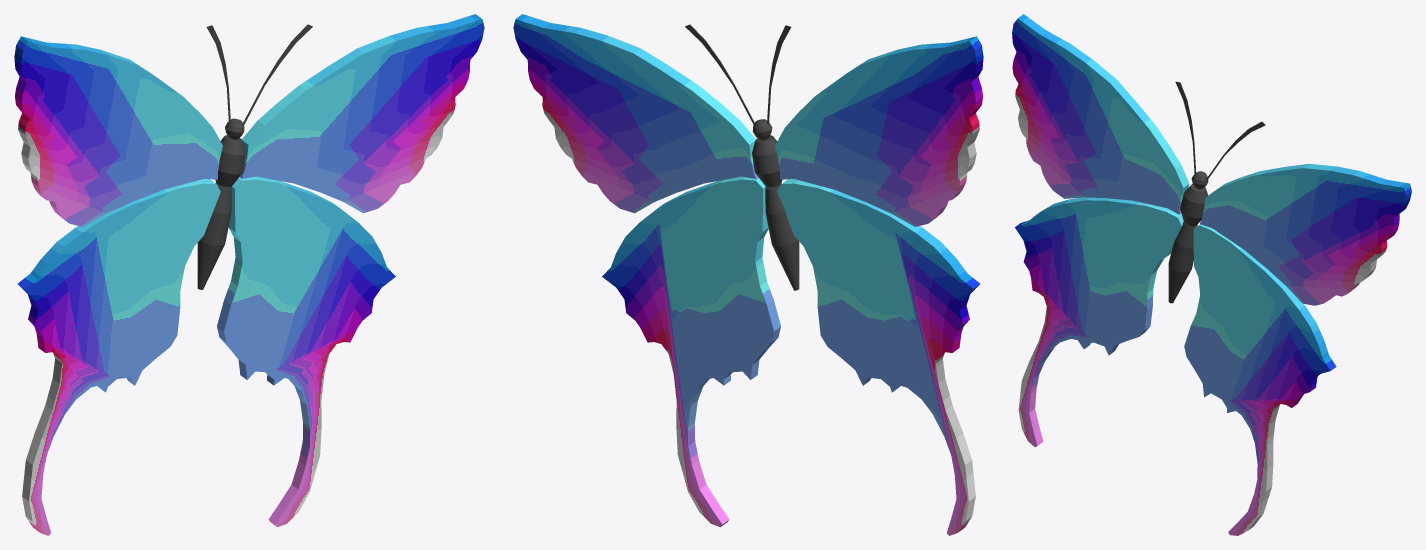
File: butterfliege_3D.glb
3 renders of one model, left to right at view 1: azimuth 30°, elevation 25°; view 2: azimuth 150°, elevation 25°; view 3: azimuth 330°, elevation 25°, orthographic. The views are drawn at different scales.
Visible parts, largest first — view 1: butterfliege_3D; view 2: butterfliege_3D; view 3: butterfliege_3D.
Boxes of the visible parts, x1,y1,x2,y2 form: butterfliege_3D: (14,14,484,535); butterfliege_3D: (513,14,983,535); butterfliege_3D: (1012,14,1411,535).
Bounding box in the file's own units: 3.85 × 4.34 × 0.2303.
Materials: 1 (1 with a texture image).
